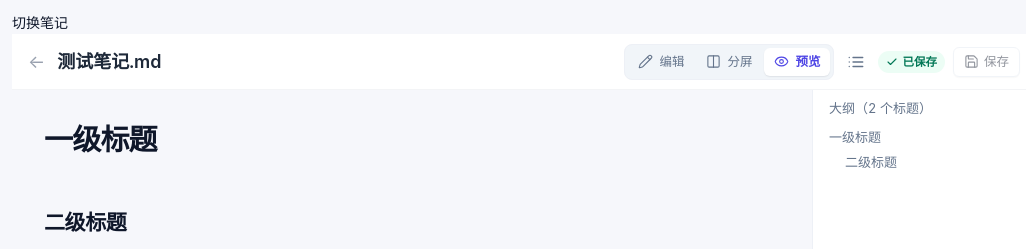
it: 笔记编辑页：大纲栏显示与折叠（#4-a，AC-7 / AC-8） › 大纲栏可折叠 / 展开，折叠时开关按钮 data-on 激活（AC-8）
Expected: the text "大纲（2 个标题）" is shown, [829, 100, 932, 116]
What coordinates should you click on to do the following:
click the button named "折叠大纲"
I would click on:
 (856, 62)
Its box is [842, 48, 870, 76].
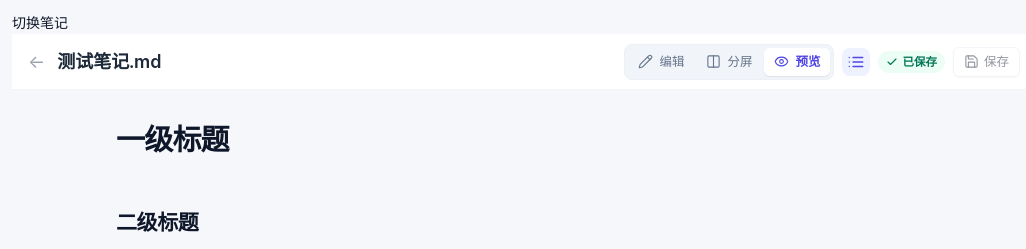
Expected: the text "大纲（" is gone
What coordinates should you click on to do the following:
click the button named "展开大纲"
I would click on:
 (856, 62)
Its box is [842, 48, 870, 76].
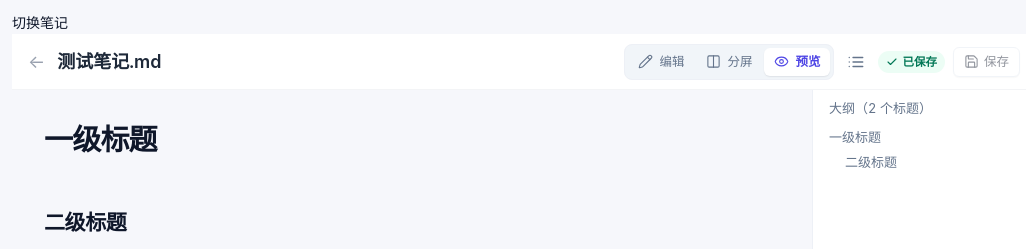
Expected: the text "大纲（2 个标题）" is shown, [829, 100, 932, 116]
